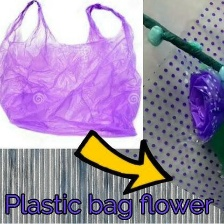plastic_bag: (0, 0, 146, 141)
